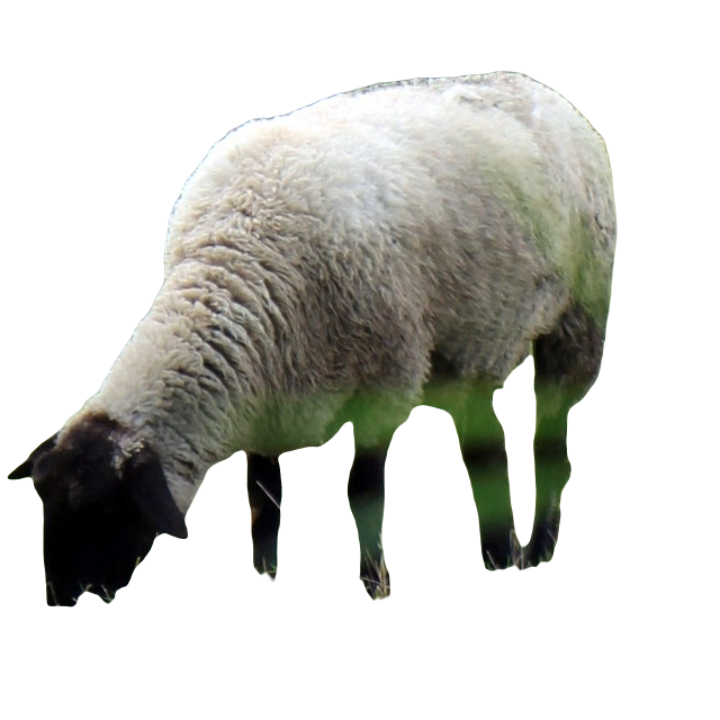Sheep: (4, 66, 629, 612)
